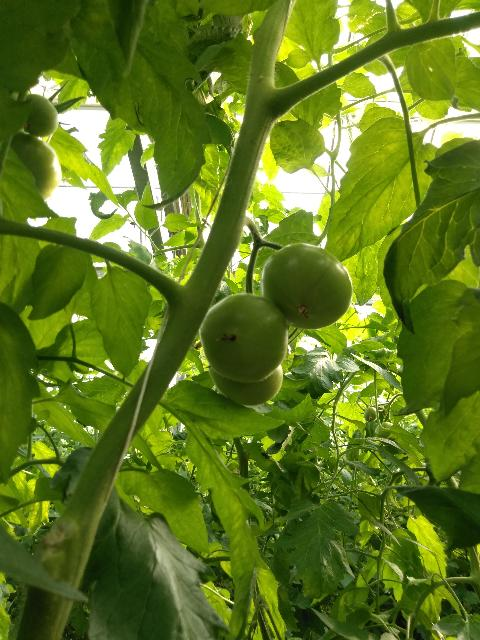b_green: (199, 293, 289, 383), (261, 242, 354, 329), (10, 132, 62, 201), (209, 363, 283, 406), (23, 93, 58, 137), (375, 422, 393, 444), (363, 407, 377, 422)
